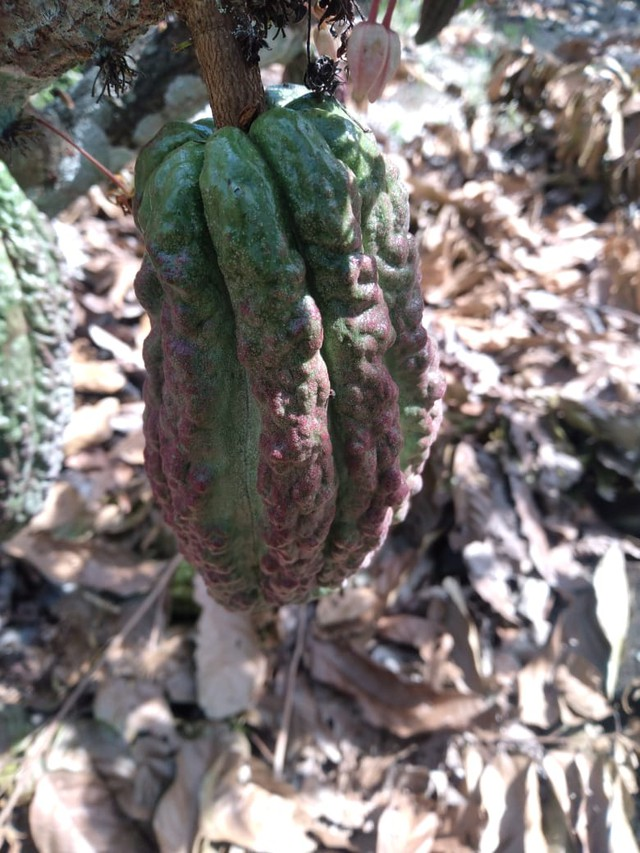Health: (88, 50, 467, 634)
